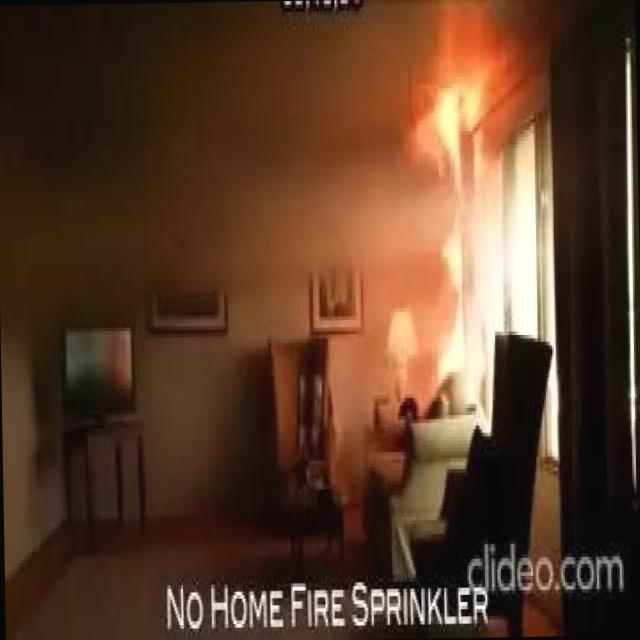fire: (400, 0, 521, 379)
